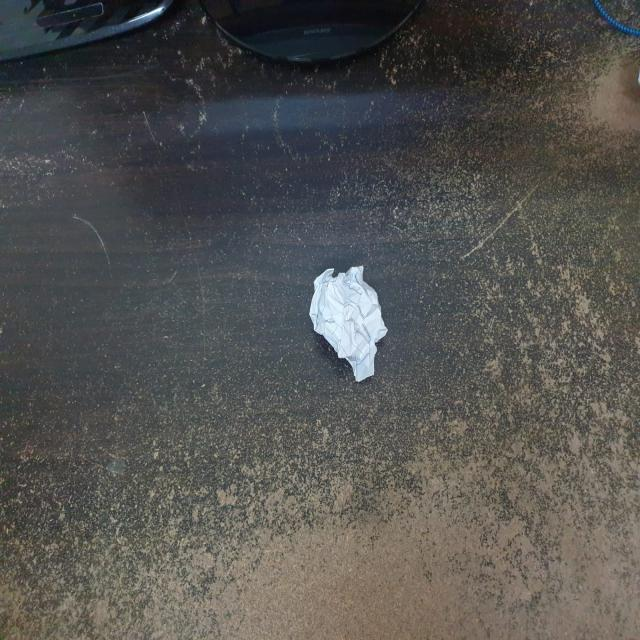Paper: (314, 264, 387, 385)
